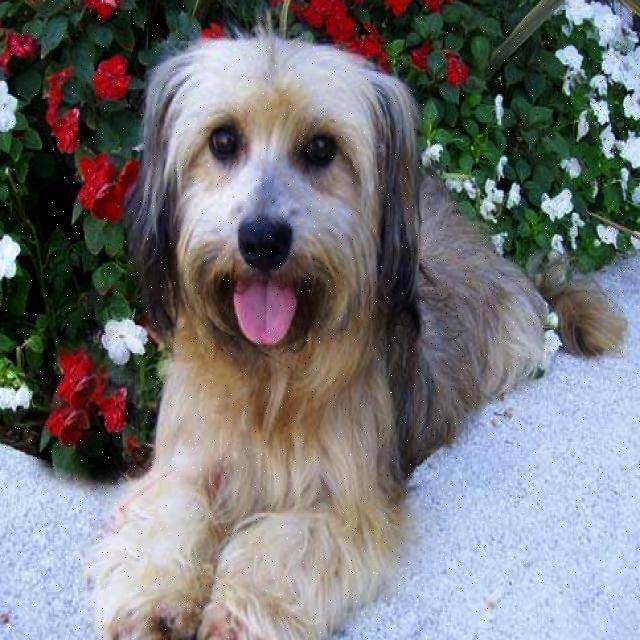Dog: (132, 22, 418, 365)
